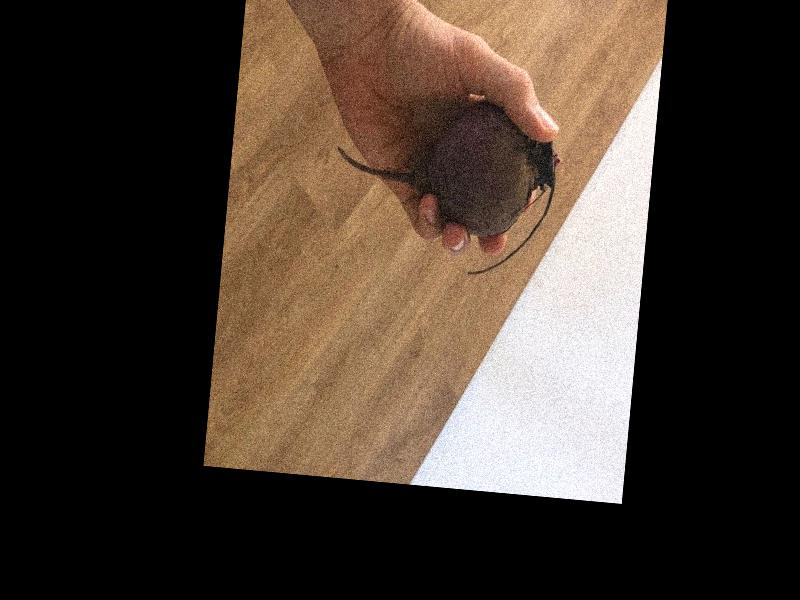Beet: (328, 88, 566, 284)
